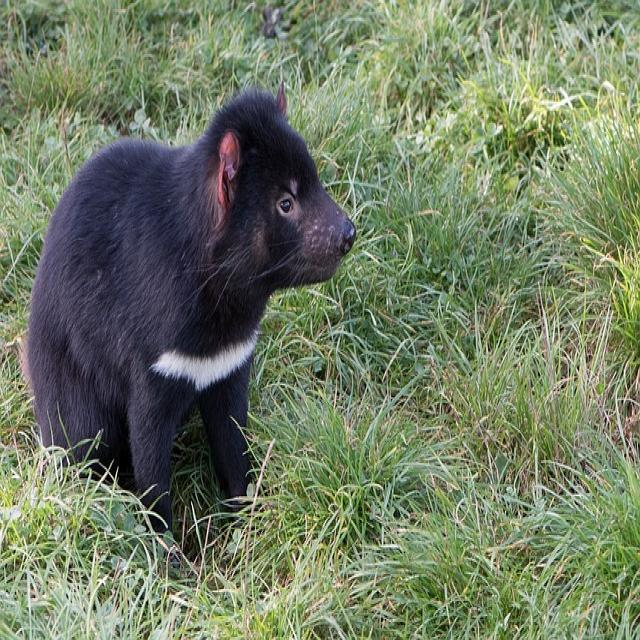Carnivorous: (22, 88, 357, 538)
